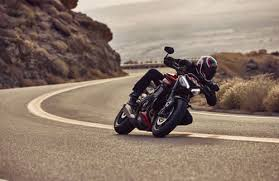motorcycle: (110, 45, 220, 139)
